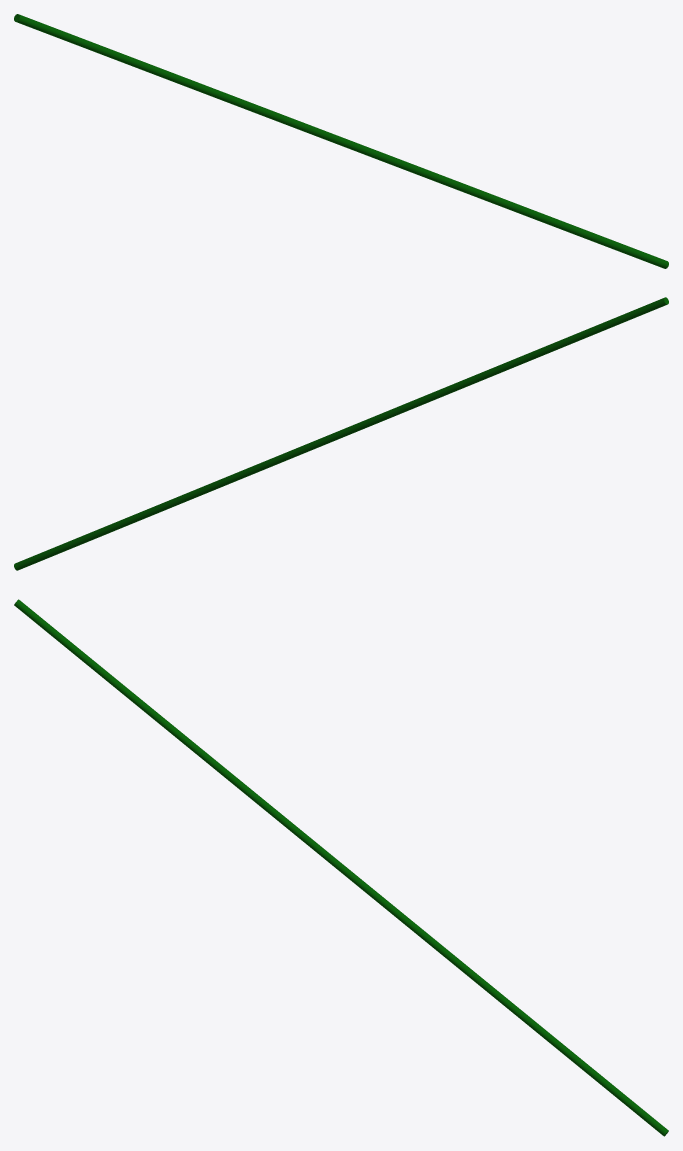
The model's file is Event_108764385_jet_0.fbx.
The picture shows the model from 3 angles, top to bottom: view 1: azimuth 30°, elevation 25°; view 2: azimuth 150°, elevation 25°; view 3: azimuth 330°, elevation 25°; orthographic projection. The views are drawn at different scales.
Parts seen in each view (by area): view 1: Model; view 2: Model; view 3: Model.
Boxes of the visible parts, x1=… form: Model: x1=14, y1=14, x2=668, y2=268; Model: x1=14, y1=297, x2=668, y2=570; Model: x1=14, y1=599, x2=668, y2=1136.
Size of the model in its own units: 3.79 by 2.34 by 0.3187.
